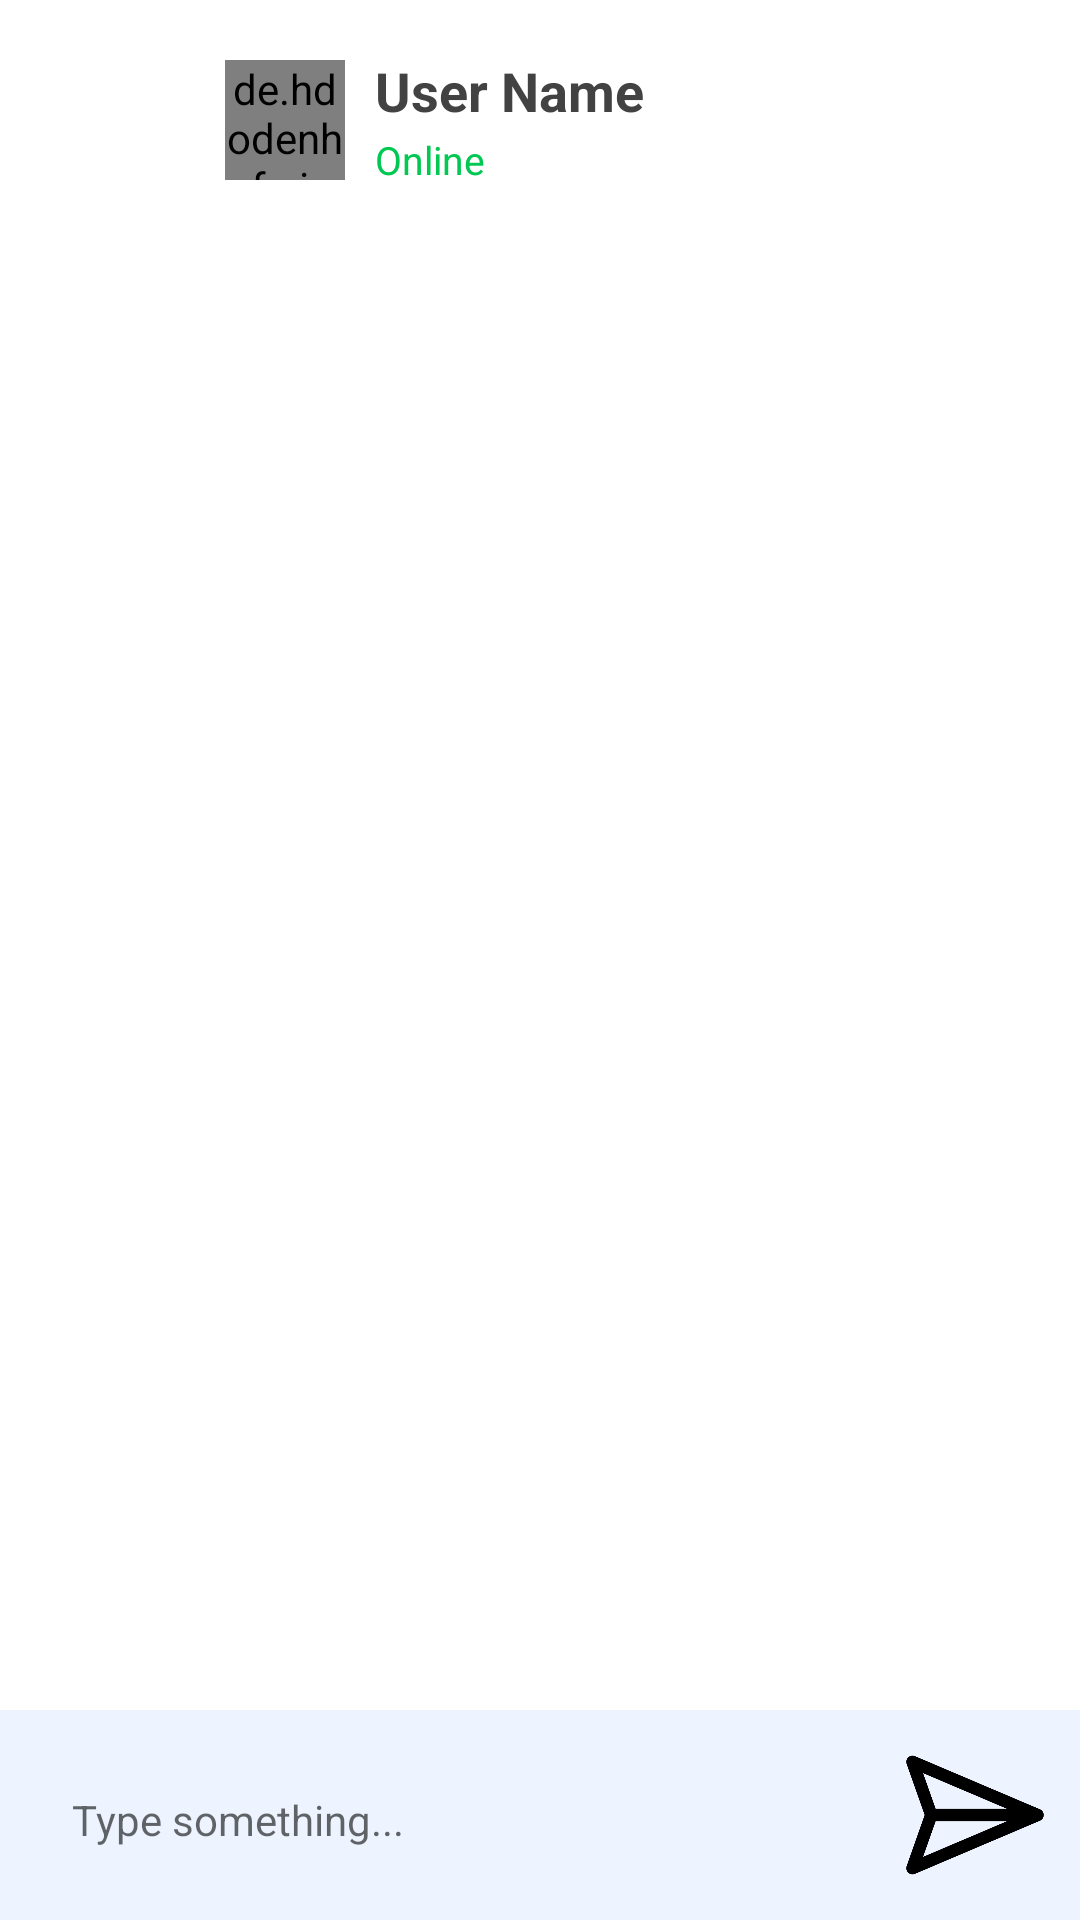

Where icons sit on this 1080 × 1920 app screen, as (x1, y1, x2, y2):
send: (906, 1755, 1044, 1875)
